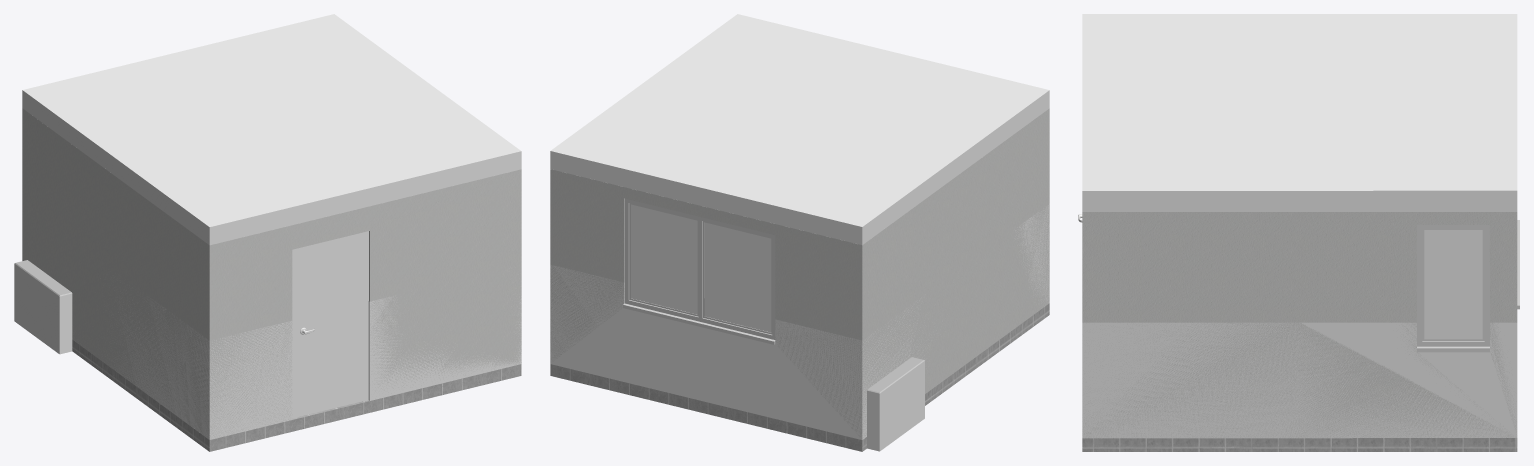
The model's file is FloorPlan411_physics.fbx.
3 views of the same model, side by side, from view 1: azimuth 30°, elevation 25°; view 2: azimuth 150°, elevation 25°; view 3: azimuth 270°, elevation 25° (orthographic). The views are drawn at different scales.
Visible parts, largest first — view 1: FP411:Walls, FP411:Ceiling, FP411:Room.002, FP411:Door.005, FP411:Floor, FP411:Cube.1869, FP411:DoorFrame.005; view 2: FP411:Ceiling, FP411:Walls, FP411:Room.002, FP411:polySurface59, FP411:Floor, FP411:polySurface60, FP411:Cube.1869; view 3: FP411:Ceiling, FP411:Walls, FP411:Room.002, FP411:polySurface61, FP411:Floor, FP411:polySurface63.
Boxes of the visible parts, box(x1,y1,x2,y2) form: FP411:Walls: box(22, 108, 521, 439); FP411:Ceiling: box(22, 14, 521, 245); FP411:Room.002: box(72, 268, 521, 439); FP411:Door.005: box(297, 238, 362, 416); FP411:Floor: box(72, 340, 521, 451); FP411:Cube.1869: box(14, 260, 72, 354); FP411:DoorFrame.005: box(292, 231, 368, 418); FP411:Ceiling: box(550, 14, 1049, 244); FP411:Walls: box(550, 108, 1049, 438); FP411:Room.002: box(550, 204, 1049, 439); FP411:polySurface59: box(631, 204, 771, 332); FP411:Floor: box(550, 303, 1049, 451); FP411:polySurface60: box(623, 198, 775, 344); FP411:Cube.1869: box(867, 357, 924, 451); FP411:Ceiling: box(1082, 14, 1517, 211); FP411:Walls: box(1082, 212, 1517, 438); FP411:Room.002: box(1082, 322, 1517, 438); FP411:polySurface61: box(1424, 230, 1482, 339); FP411:Floor: box(1082, 438, 1517, 451); FP411:polySurface63: box(1417, 225, 1489, 352).
Bounding box in the file's own units: 421 × 277 × 425.
